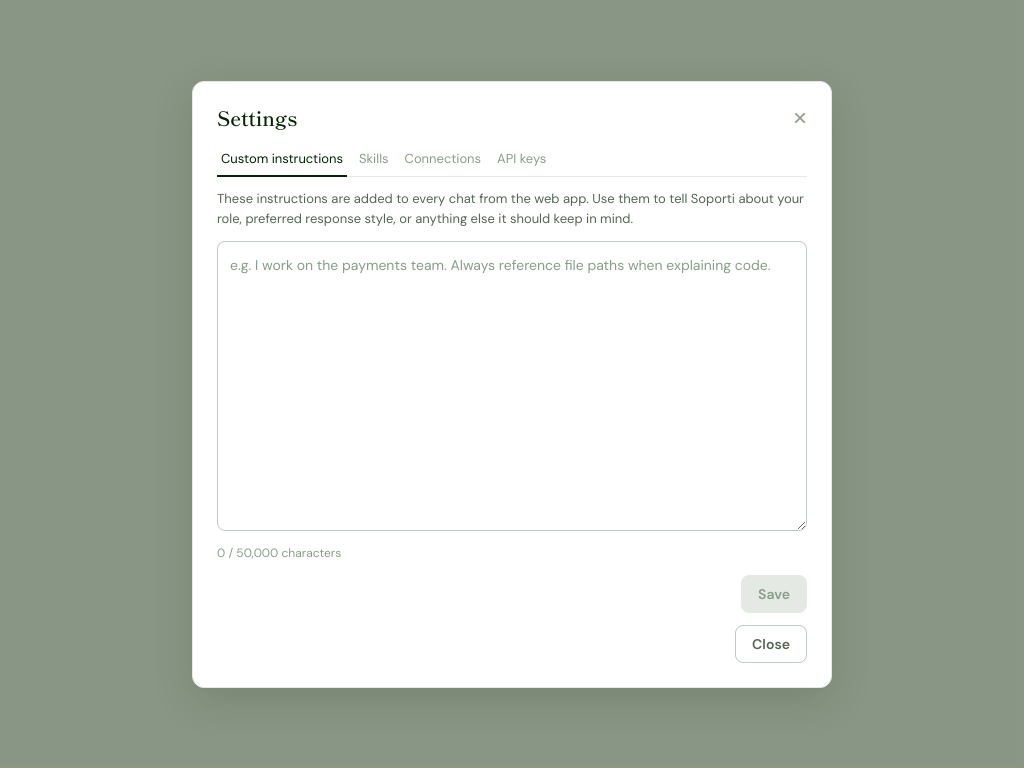
it: SettingsModal › switches to the Skills tab
Check: the text box with placeholder "payments team" is shown, box [217,240,807,530]
Click the tab "Skills" at coordinates (374, 159), box [355,142,392,176]
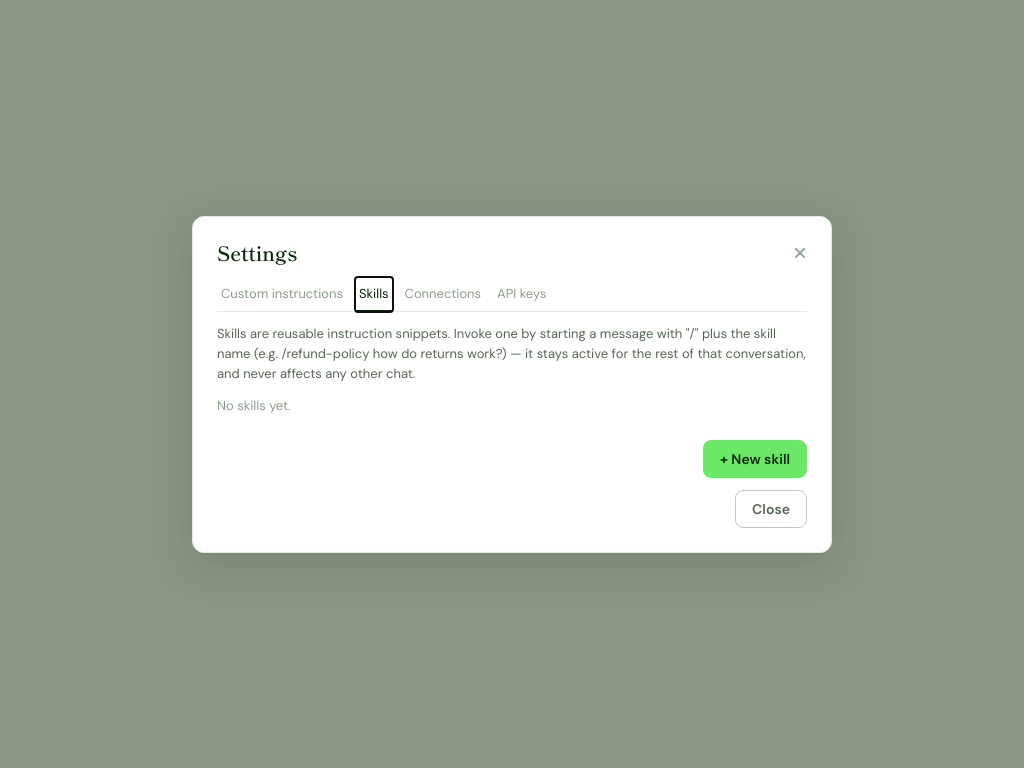
Check: the field with placeholder "payments team" is not shown
Check: the text "No skills yet." is shown, box [217,396,291,414]
